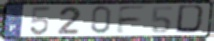0: (90, 5, 113, 36)
2: (57, 5, 84, 36)
5: (150, 6, 174, 35), (29, 6, 51, 36)
D: (175, 4, 209, 35)
F: (114, 5, 148, 35)
